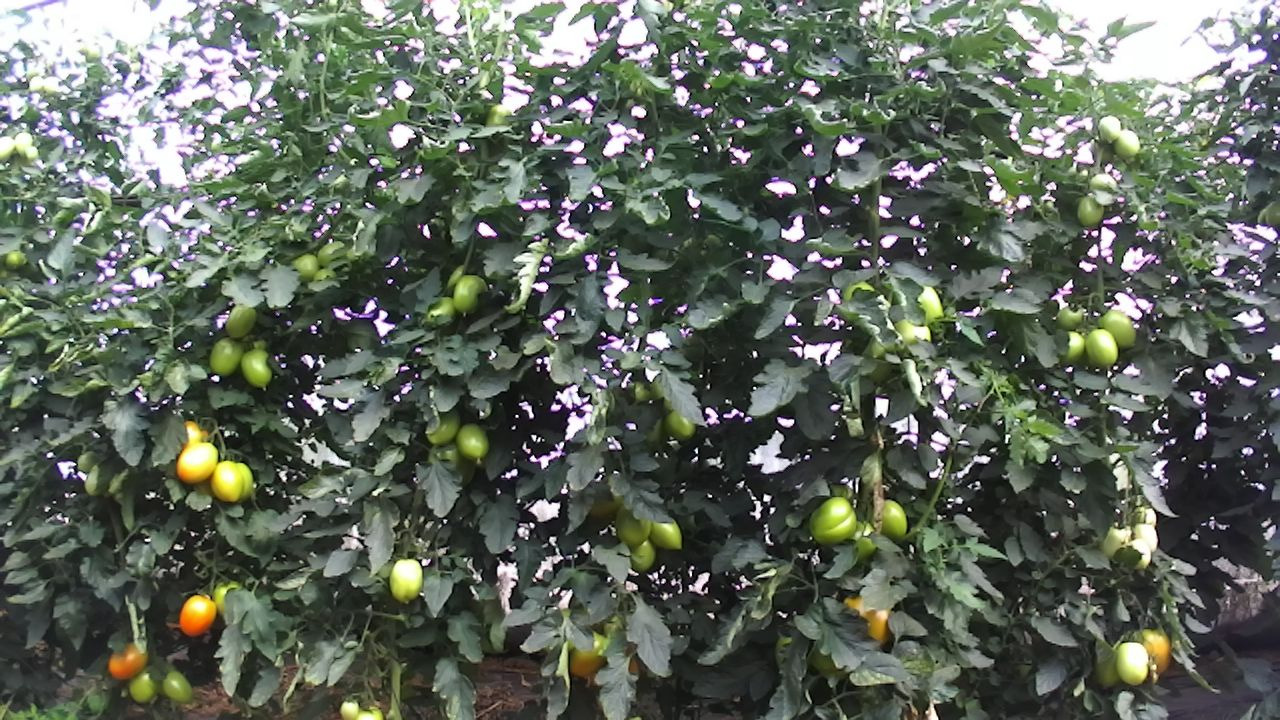tomato: (806, 493, 858, 548), (174, 439, 218, 486), (177, 591, 219, 638), (613, 502, 653, 549), (388, 556, 425, 606), (1095, 307, 1137, 350), (106, 640, 150, 681), (645, 510, 686, 554), (1081, 325, 1120, 371), (1113, 639, 1150, 687), (207, 334, 245, 379), (451, 272, 489, 316), (238, 345, 274, 391), (452, 421, 491, 463), (209, 458, 244, 504), (659, 408, 696, 443), (159, 668, 194, 705), (224, 302, 258, 340), (127, 669, 159, 706), (628, 535, 658, 574), (1074, 193, 1106, 229), (1113, 128, 1141, 160), (1097, 113, 1122, 144)
